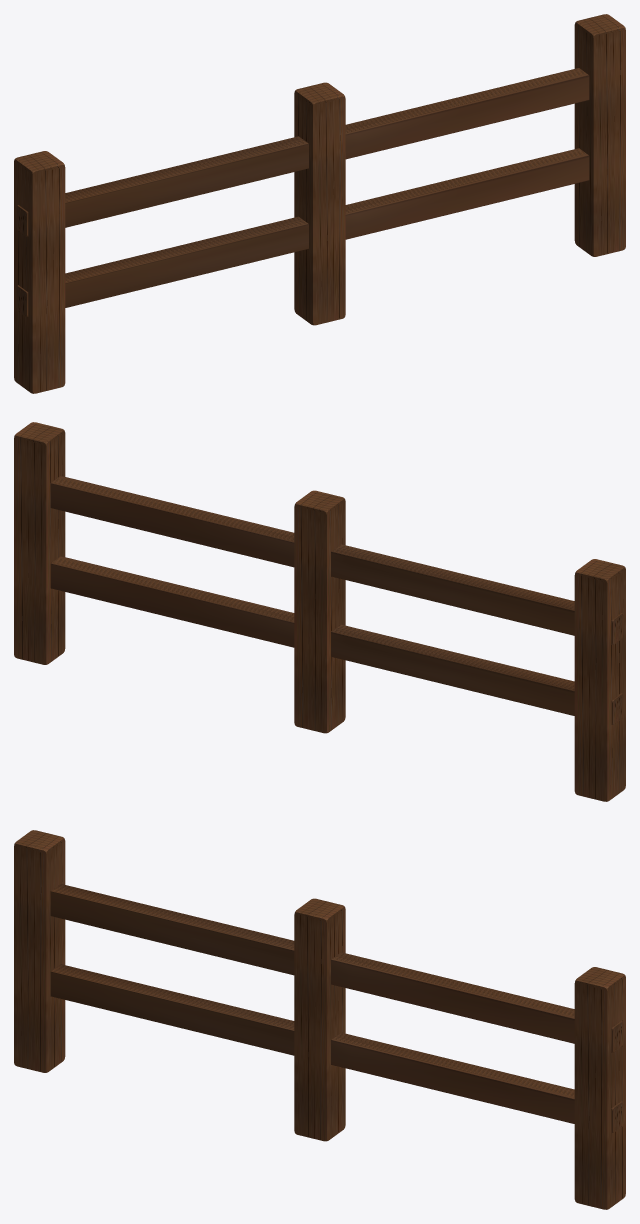
Rendered from kit_fence_gate.glb.
The picture shows the model from 3 angles, top to bottom: view 1: azimuth 30°, elevation 25°; view 2: azimuth 150°, elevation 25°; view 3: azimuth 330°, elevation 25°; orthographic projection.
Parts seen in each view (by area): view 1: FN_Rail_0.5, FN_Rail_0.24, FN_Post_-0.95, FN_Post_0.0, FN_Post_0.95; view 2: FN_Rail_0.5, FN_Rail_0.24, FN_Post_-0.95, FN_Post_0.0, FN_Post_0.95; view 3: FN_Rail_0.5, FN_Rail_0.24, FN_Post_0.95, FN_Post_0.0, FN_Post_-0.95.
Boxes of the visible parts, left/top/right/bottom form: FN_Rail_0.5: left=16, top=68, right=589, bottom=236; FN_Rail_0.24: left=16, top=148, right=589, bottom=316; FN_Post_-0.95: left=14, top=151, right=65, bottom=393; FN_Post_0.0: left=294, top=82, right=345, bottom=325; FN_Post_0.95: left=574, top=14, right=625, bottom=256; FN_Rail_0.5: left=50, top=476, right=623, bottom=644; FN_Rail_0.24: left=50, top=556, right=623, bottom=724; FN_Post_-0.95: left=574, top=559, right=625, bottom=801; FN_Post_0.0: left=294, top=490, right=345, bottom=733; FN_Post_0.95: left=14, top=422, right=65, bottom=664; FN_Rail_0.5: left=50, top=884, right=623, bottom=1052; FN_Rail_0.24: left=50, top=964, right=623, bottom=1132; FN_Post_0.95: left=574, top=967, right=625, bottom=1209; FN_Post_0.0: left=294, top=898, right=345, bottom=1141; FN_Post_-0.95: left=14, top=830, right=65, bottom=1072.
Size of the model in its own units: 2.02 by 0.72 by 0.11.
Materials: 1 (1 with a texture image).
